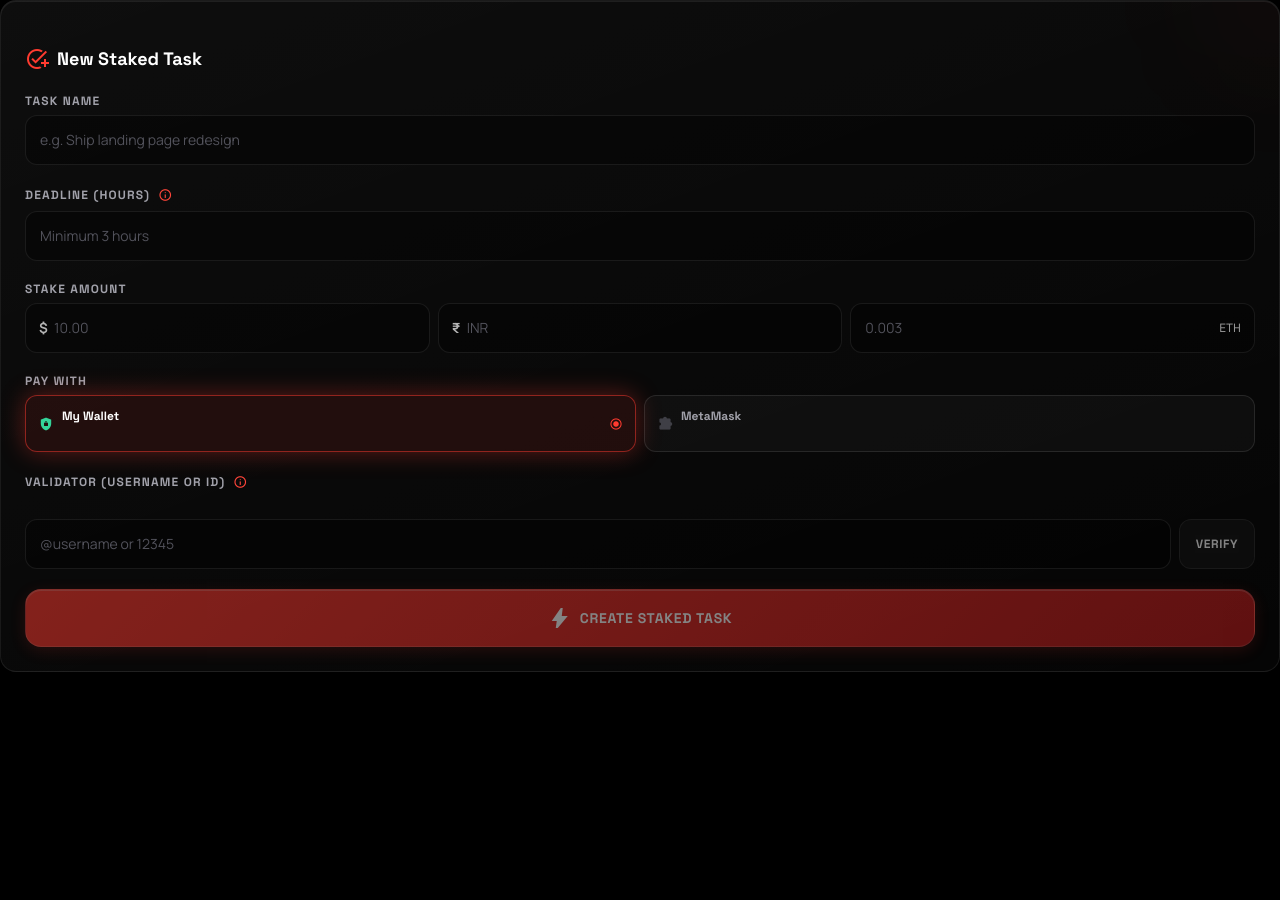
Test case: stake amount conversion › USD to ETH and ETH to USD, both ways
In the number field with placeholder "10.00": (227,328) [25,303,430,353], type "10"
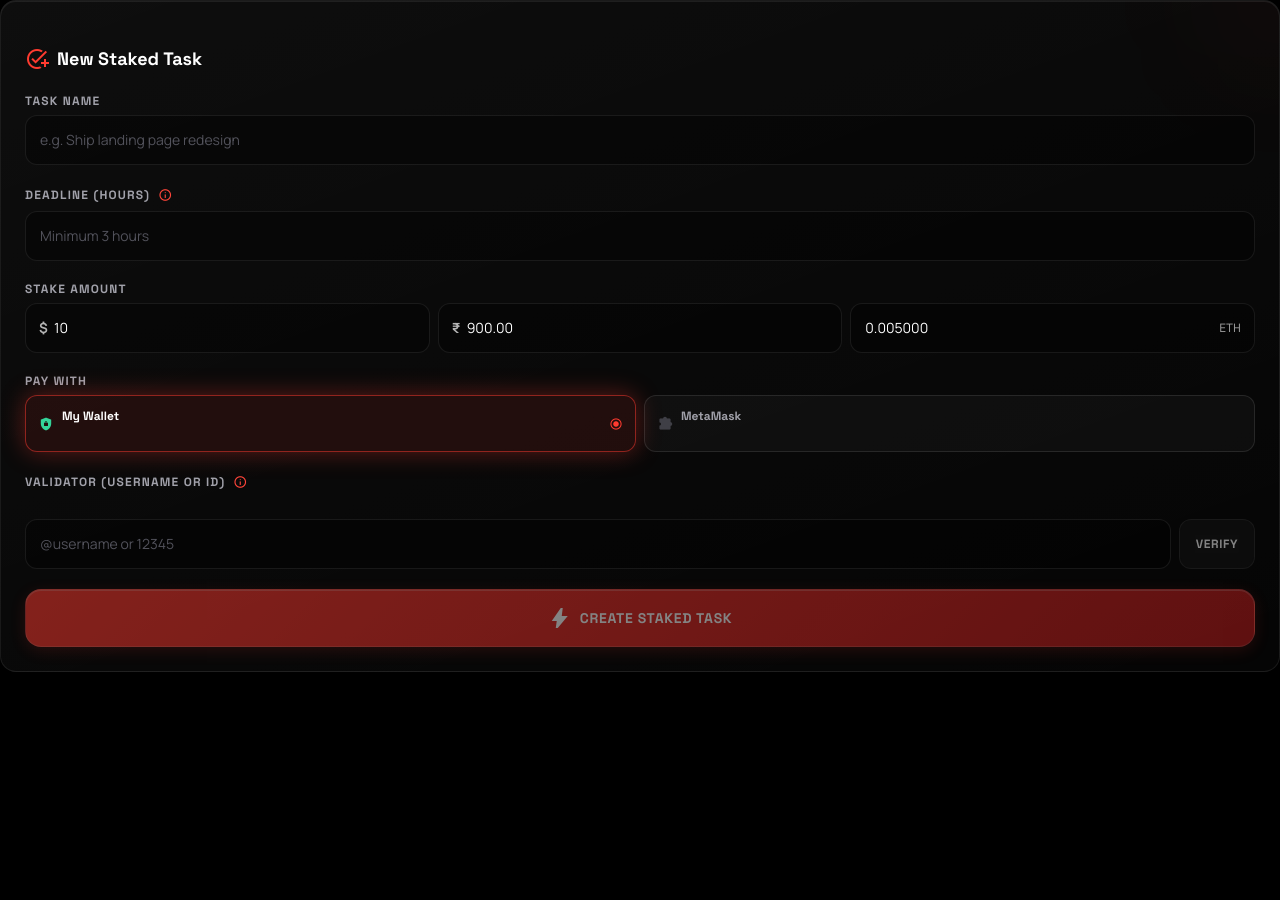
expect the 3rd number field with placeholder "0.003" holds "0.005000": met
Replace the text in the 3rd number field with placeholder "0.003" with "0.01": (1053,328) [850,303,1255,353]
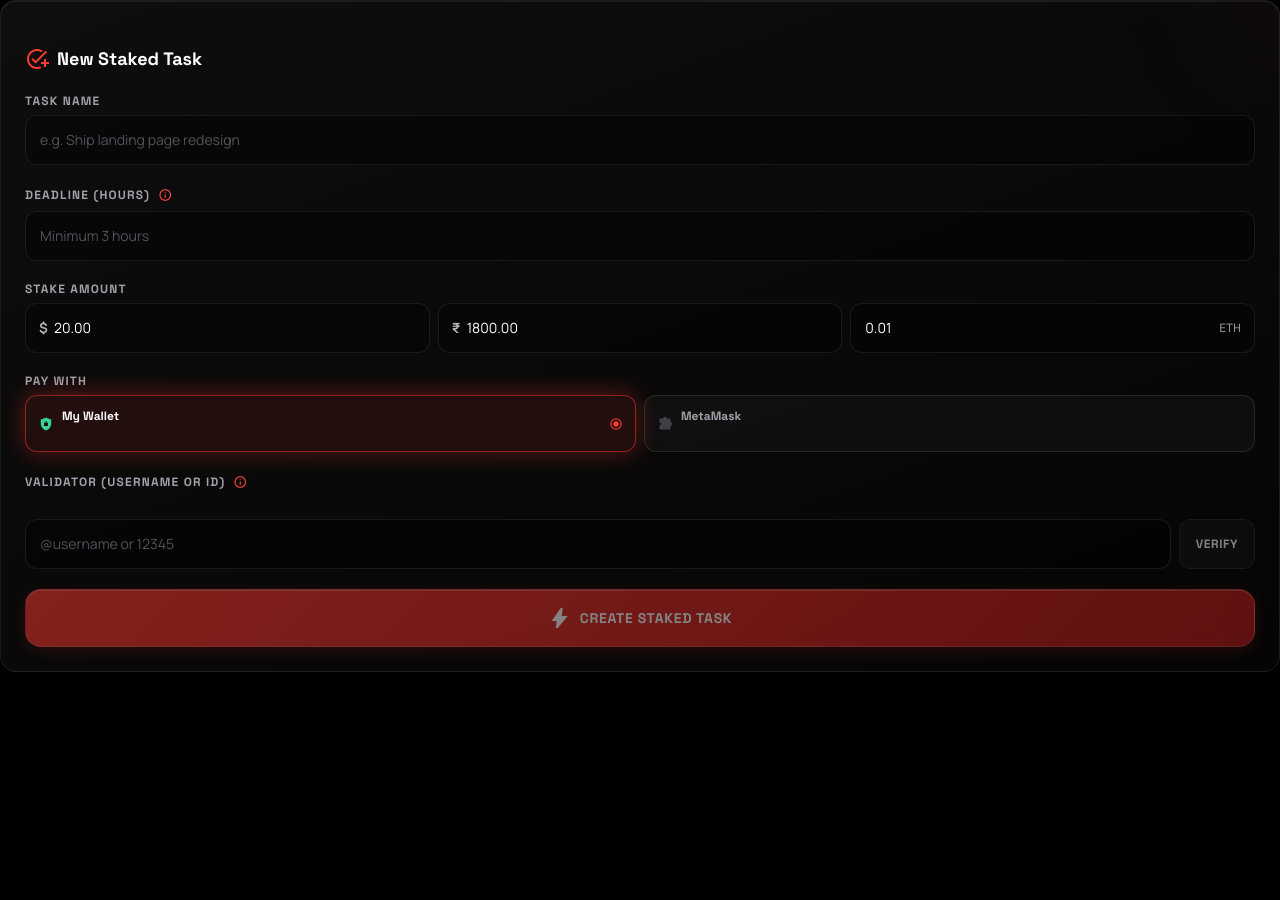
expect the 1st number field with placeholder "10.00" holds "20.00": met, box [25,303,430,353]
